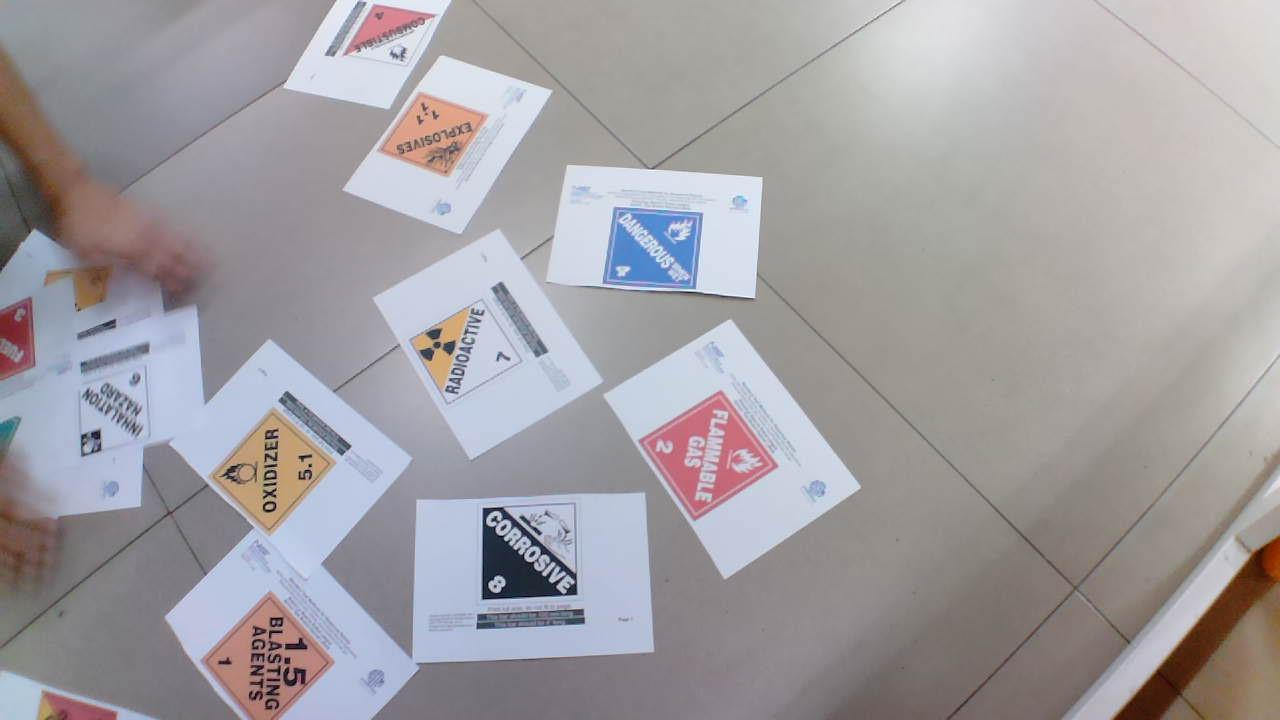corrosive: (472, 498, 587, 606)
dangerous-when-wet: (599, 200, 713, 297)
explosive: (203, 590, 333, 720), (376, 93, 493, 183)
flammable: (643, 393, 779, 528), (1, 291, 33, 396)
oxidizer: (210, 408, 346, 526)
poison: (76, 370, 155, 462)
radioactive: (407, 297, 517, 403)
spontaneously-combustible: (347, 1, 435, 78)
